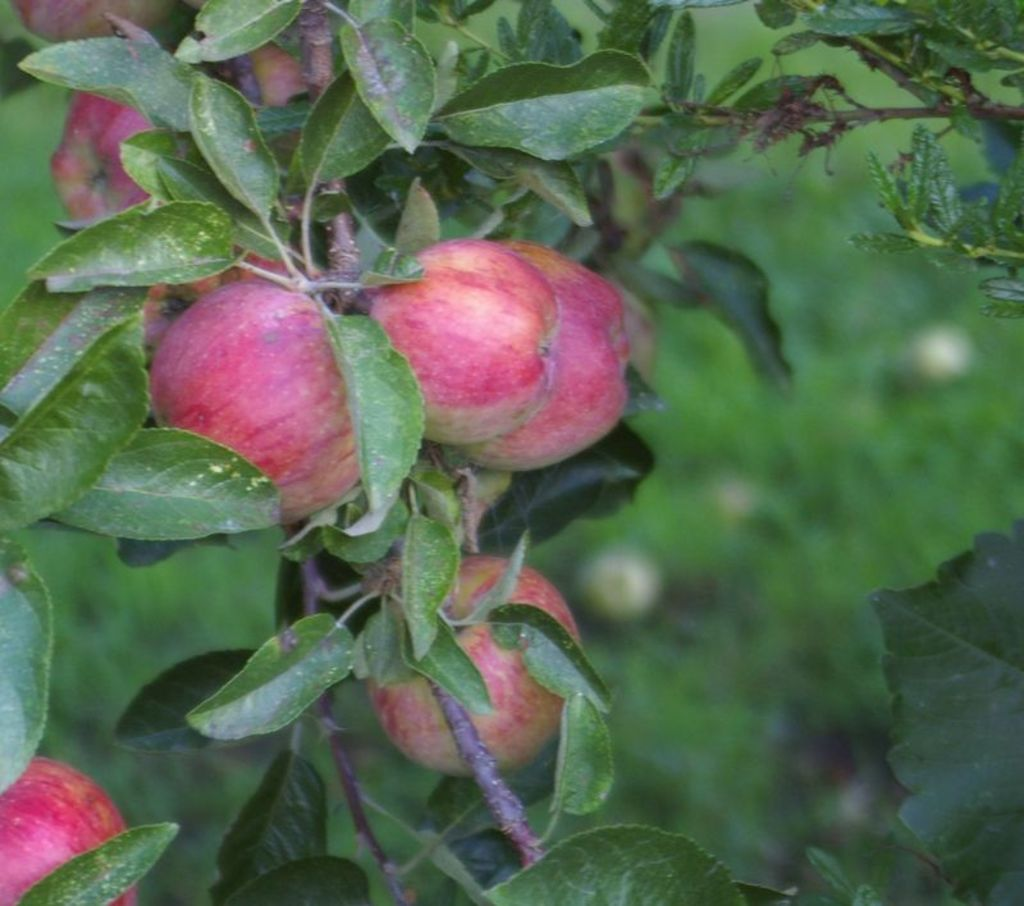Apple: (160, 271, 373, 519), (362, 551, 583, 778), (367, 231, 563, 446), (473, 238, 633, 472), (0, 752, 143, 904), (48, 84, 189, 225), (7, 0, 193, 47), (248, 44, 309, 111)
